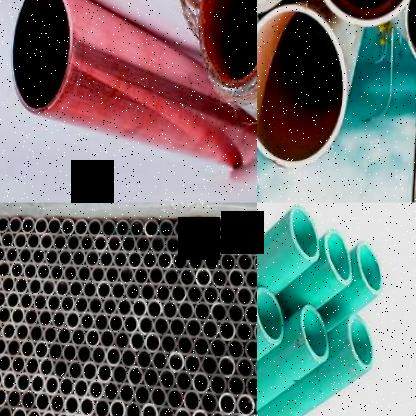pipe: (257, 4, 346, 169), (11, 0, 73, 113), (199, 0, 256, 89), (290, 205, 320, 262), (301, 304, 330, 362), (324, 228, 353, 286), (257, 286, 284, 346), (358, 241, 384, 296), (348, 314, 373, 371), (405, 0, 416, 75), (235, 393, 255, 416), (218, 392, 237, 416), (200, 391, 219, 415), (227, 374, 246, 398), (209, 373, 228, 396), (175, 370, 193, 393), (236, 356, 254, 379), (184, 353, 202, 376), (143, 366, 160, 390), (168, 350, 185, 374), (210, 336, 227, 360), (183, 390, 201, 412), (192, 372, 210, 394), (218, 356, 236, 378), (151, 350, 169, 372), (227, 338, 245, 360), (176, 334, 194, 356), (160, 332, 178, 354), (218, 320, 236, 342), (201, 318, 219, 340), (185, 318, 203, 340), (227, 302, 245, 324), (210, 302, 228, 324), (186, 284, 204, 306), (236, 252, 254, 274), (219, 251, 237, 273), (187, 250, 205, 272), (150, 386, 167, 409), (134, 384, 151, 407), (103, 380, 120, 403), (159, 368, 176, 391), (127, 365, 144, 388), (201, 354, 218, 377), (167, 388, 184, 410), (112, 364, 129, 386), (136, 348, 153, 370), (193, 336, 210, 358), (236, 320, 253, 342), (169, 316, 186, 338), (194, 301, 211, 323), (236, 285, 253, 307), (219, 284, 236, 306), (203, 284, 220, 306), (170, 282, 187, 304), (228, 268, 245, 290), (204, 250, 221, 272), (30, 373, 46, 396), (50, 392, 65, 416), (211, 268, 229, 288), (78, 395, 95, 416), (114, 330, 131, 351), (122, 314, 139, 335), (146, 299, 163, 320), (179, 267, 196, 288), (173, 218, 190, 239), (64, 394, 80, 416), (6, 388, 22, 410), (119, 382, 135, 404), (88, 378, 104, 400), (97, 362, 113, 384), (82, 361, 98, 383), (121, 346, 137, 368), (145, 332, 161, 354), (130, 330, 146, 352), (178, 300, 194, 322), (153, 316, 170, 336), (162, 300, 179, 320), (131, 298, 148, 318), (155, 283, 172, 303), (148, 266, 165, 286), (195, 235, 212, 255), (237, 220, 254, 240), (204, 220, 221, 240), (220, 220, 237, 240), (128, 218, 145, 238), (158, 218, 175, 238), (106, 346, 122, 367), (140, 282, 156, 303), (172, 251, 188, 272), (189, 218, 205, 239), (21, 390, 36, 412), (45, 374, 60, 396), (68, 360, 83, 382), (91, 344, 106, 366), (62, 342, 77, 364), (101, 328, 116, 350), (71, 326, 86, 348), (195, 268, 212, 287), (212, 236, 229, 255), (228, 236, 245, 255), (180, 235, 197, 254), (114, 219, 131, 238), (36, 391, 50, 414), (138, 315, 154, 335), (96, 280, 112, 300), (164, 267, 180, 287), (157, 251, 173, 271), (150, 234, 166, 254), (144, 218, 160, 238), (77, 344, 92, 365), (48, 341, 63, 362), (109, 313, 124, 334), (94, 312, 109, 333), (117, 297, 132, 318), (89, 295, 104, 316), (244, 338, 257, 362), (74, 377, 88, 399), (60, 376, 74, 398), (54, 358, 68, 380), (40, 356, 54, 378), (108, 398, 125, 416), (94, 397, 110, 416), (102, 297, 118, 316), (82, 280, 98, 299), (16, 372, 31, 392), (34, 340, 49, 360), (43, 325, 58, 345), (111, 281, 126, 301), (104, 265, 119, 285), (142, 249, 157, 269), (73, 217, 88, 237), (52, 309, 66, 330), (244, 304, 257, 326), (244, 268, 257, 290), (2, 372, 17, 391), (134, 266, 149, 285), (113, 250, 128, 269), (99, 249, 114, 268), (13, 231, 28, 250), (88, 218, 103, 237), (47, 217, 62, 236), (26, 356, 40, 376), (12, 355, 26, 375), (21, 339, 35, 359), (7, 338, 21, 358), (86, 328, 100, 348), (58, 326, 72, 346), (16, 322, 30, 342), (2, 321, 16, 341), (66, 310, 80, 330), (74, 295, 88, 315), (34, 292, 48, 312), (19, 291, 33, 311), (6, 290, 20, 310), (126, 282, 140, 302), (69, 279, 83, 299), (56, 278, 70, 298), (78, 264, 92, 284), (24, 261, 38, 281), (72, 248, 86, 268), (44, 247, 58, 267), (166, 235, 180, 255), (102, 218, 116, 238), (34, 216, 48, 236), (80, 312, 94, 331), (38, 309, 52, 328), (24, 308, 38, 327), (11, 307, 25, 326), (47, 294, 61, 313), (42, 278, 56, 297), (120, 266, 134, 285), (92, 265, 106, 284), (36, 262, 50, 281), (128, 250, 142, 269), (86, 249, 100, 268), (58, 248, 72, 267), (32, 247, 46, 266), (122, 235, 136, 254), (136, 235, 150, 254), (108, 234, 122, 253), (93, 234, 107, 253), (53, 233, 67, 252), (21, 216, 35, 235), (245, 376, 257, 398), (30, 324, 43, 344), (61, 294, 74, 314), (244, 236, 257, 256), (61, 218, 74, 238), (125, 401, 142, 416), (63, 264, 77, 282), (50, 264, 64, 282), (10, 261, 24, 279), (18, 247, 32, 265), (5, 246, 19, 264), (80, 234, 94, 252), (66, 234, 80, 252), (40, 232, 54, 250), (0, 231, 14, 249), (8, 215, 22, 233), (29, 277, 42, 296), (16, 277, 29, 296), (2, 274, 15, 293), (0, 352, 11, 374), (28, 231, 40, 251), (140, 403, 158, 416), (0, 305, 11, 324), (0, 260, 11, 279), (158, 404, 175, 416), (0, 216, 10, 234), (174, 407, 192, 416), (0, 386, 7, 408), (12, 406, 27, 416), (26, 407, 42, 416), (0, 337, 7, 356), (0, 405, 12, 416), (0, 290, 7, 308), (191, 409, 209, 416), (209, 410, 227, 416), (41, 409, 56, 416), (0, 245, 5, 263), (253, 321, 257, 343), (253, 286, 257, 308), (253, 220, 257, 241), (253, 253, 257, 273), (0, 368, 2, 390), (0, 320, 2, 340), (0, 273, 2, 293)
